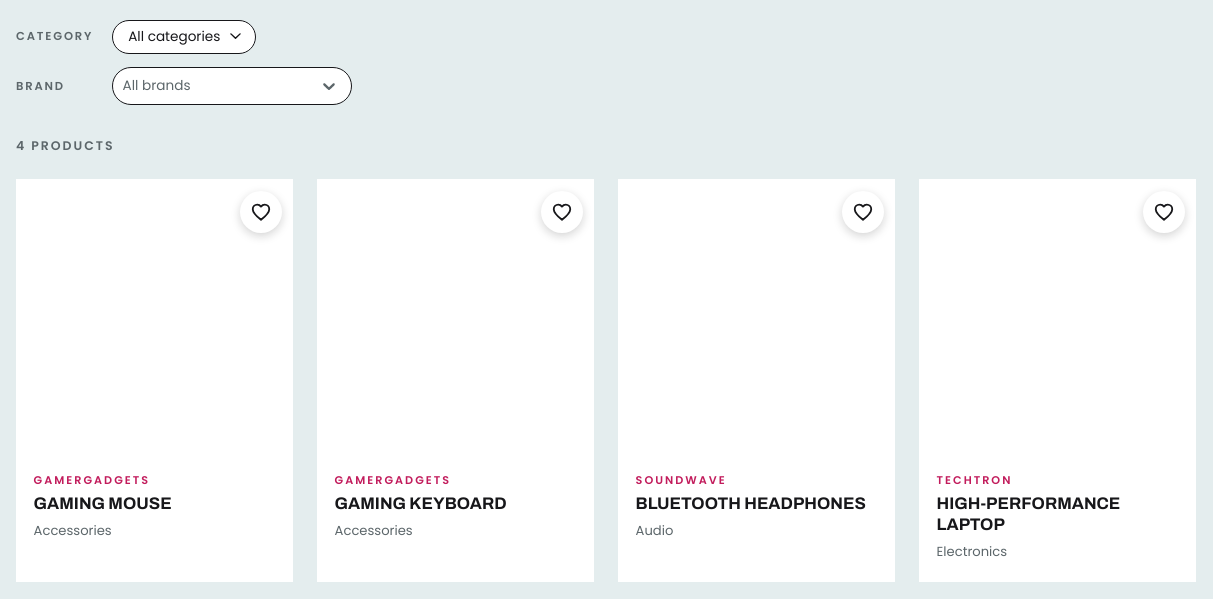
Test: ProductsPage filters › shows Clear filters once a filter is active, and it resets the grid
expect the button "Clear filters" is not shown: met
Select "Audio" in the dropdown labelled "Category": (184, 37) [112,20,256,54]
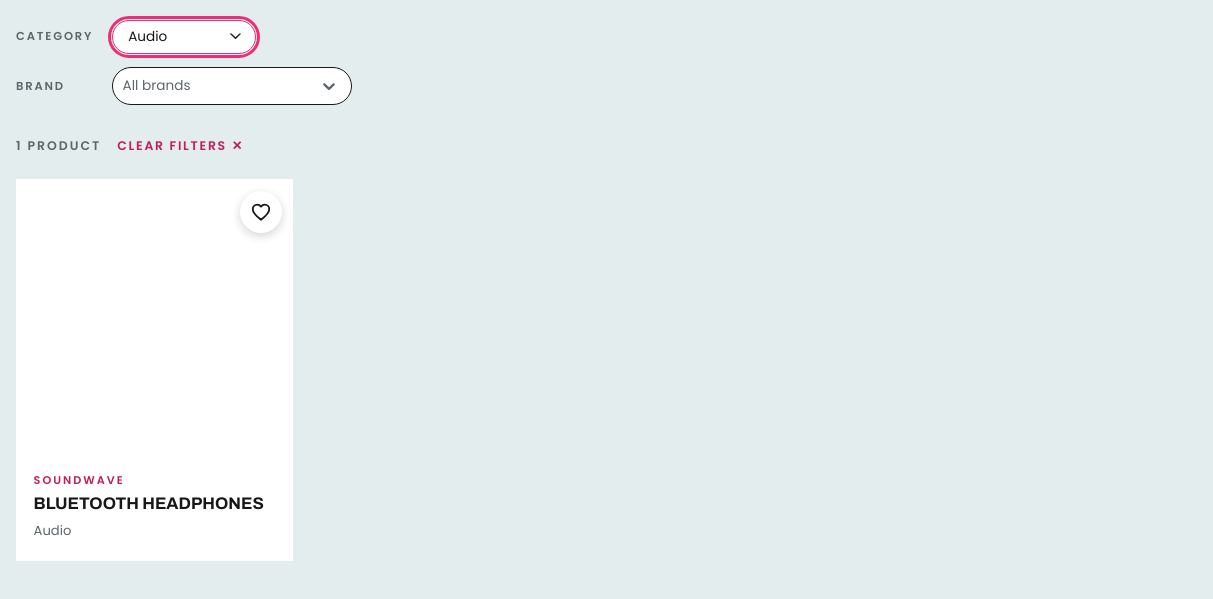
expect the button "Clear filters ✕" is shown: met
Click the button "Clear filters ✕": (181, 146) [117,131,244,162]
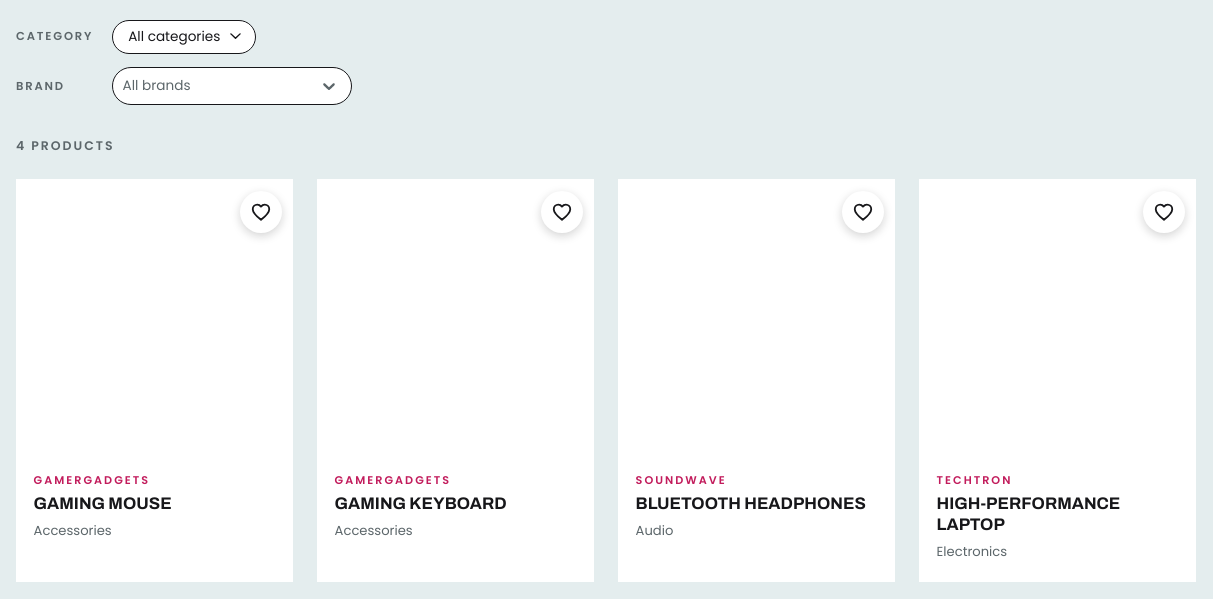
expect the button "Clear filters" is gone: met
expect the text "4 products" is shown: met, box [16,137,114,155]
